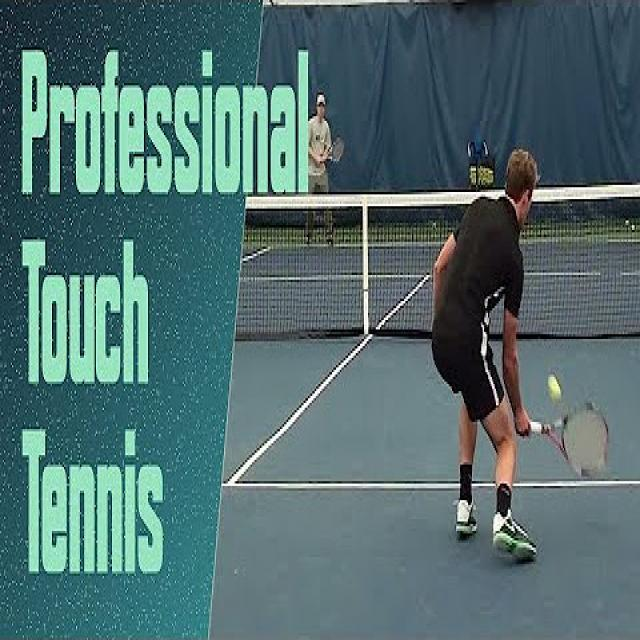net: (239, 186, 640, 353)
player: (420, 140, 612, 550)
